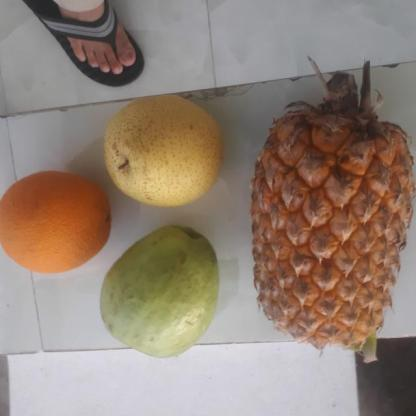guava: (100, 228, 224, 359)
orange: (0, 167, 117, 277)
pear: (100, 92, 226, 206)
pineapple: (258, 109, 412, 354)
